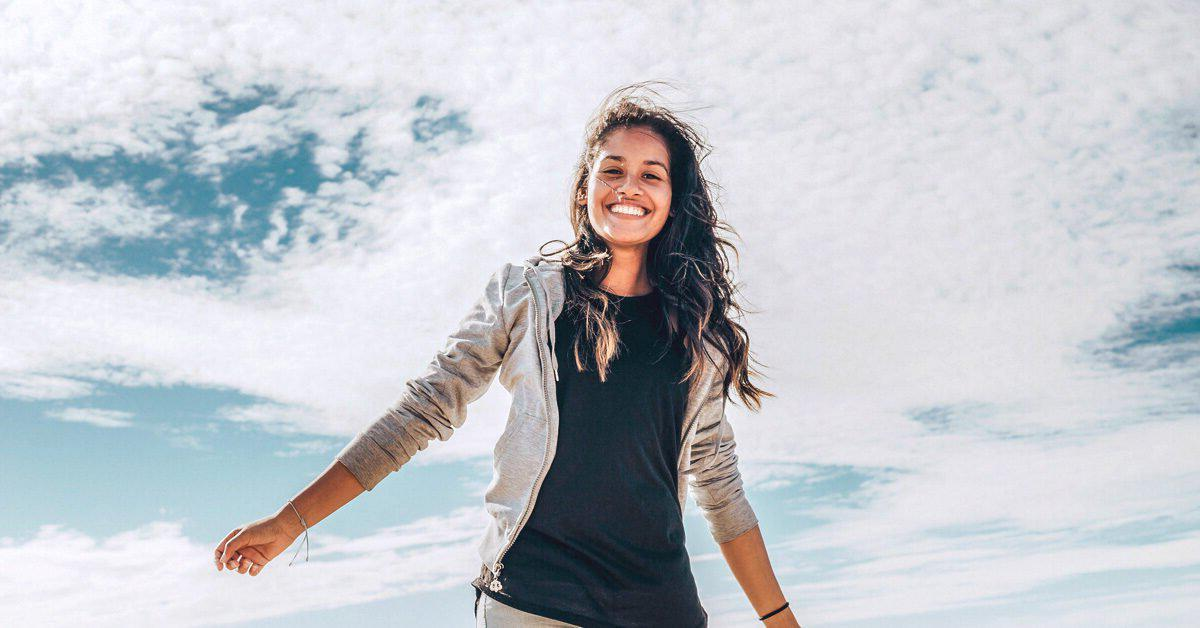Sober: (592, 140, 667, 235)
